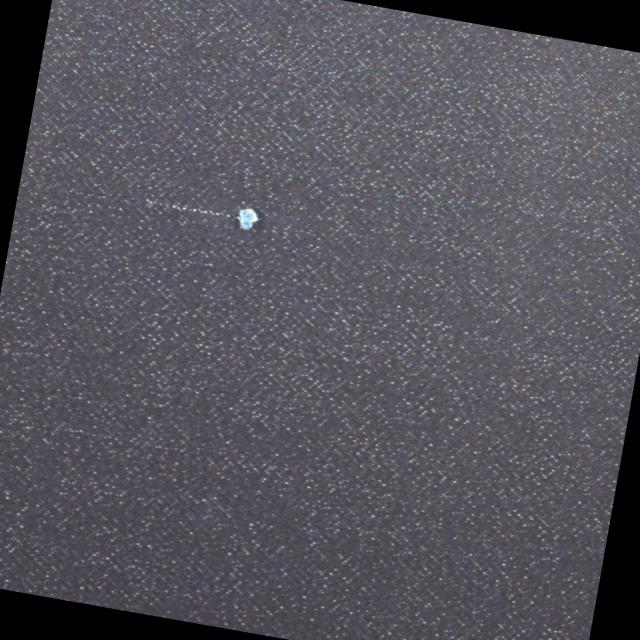hole: (231, 198, 270, 236)
